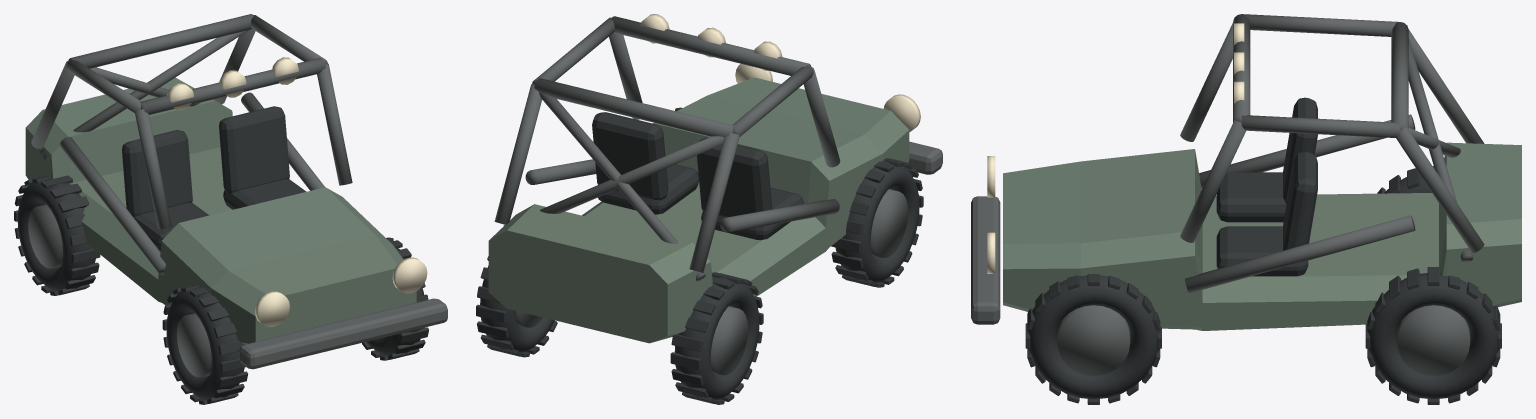
File: Buggy.fbx
3 renders of one model, left to right at view 1: azimuth 30°, elevation 25°; view 2: azimuth 150°, elevation 25°; view 3: azimuth 270°, elevation 25°, orthographic. The views are drawn at different scales.
Visible parts, largest first — view 1: Buggy; view 2: Buggy; view 3: Buggy.
Part boxes in pixels (box(x1,y1,x2,y2)): Buggy: box(14, 14, 447, 404); Buggy: box(476, 14, 942, 404); Buggy: box(971, 14, 1521, 404).
Size of the model in its own units: 160 by 187 by 319.
